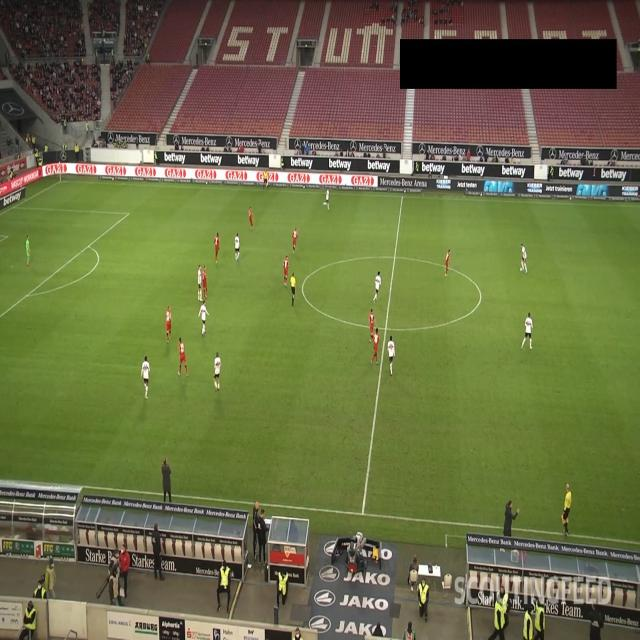ball: (519, 266, 523, 273)
